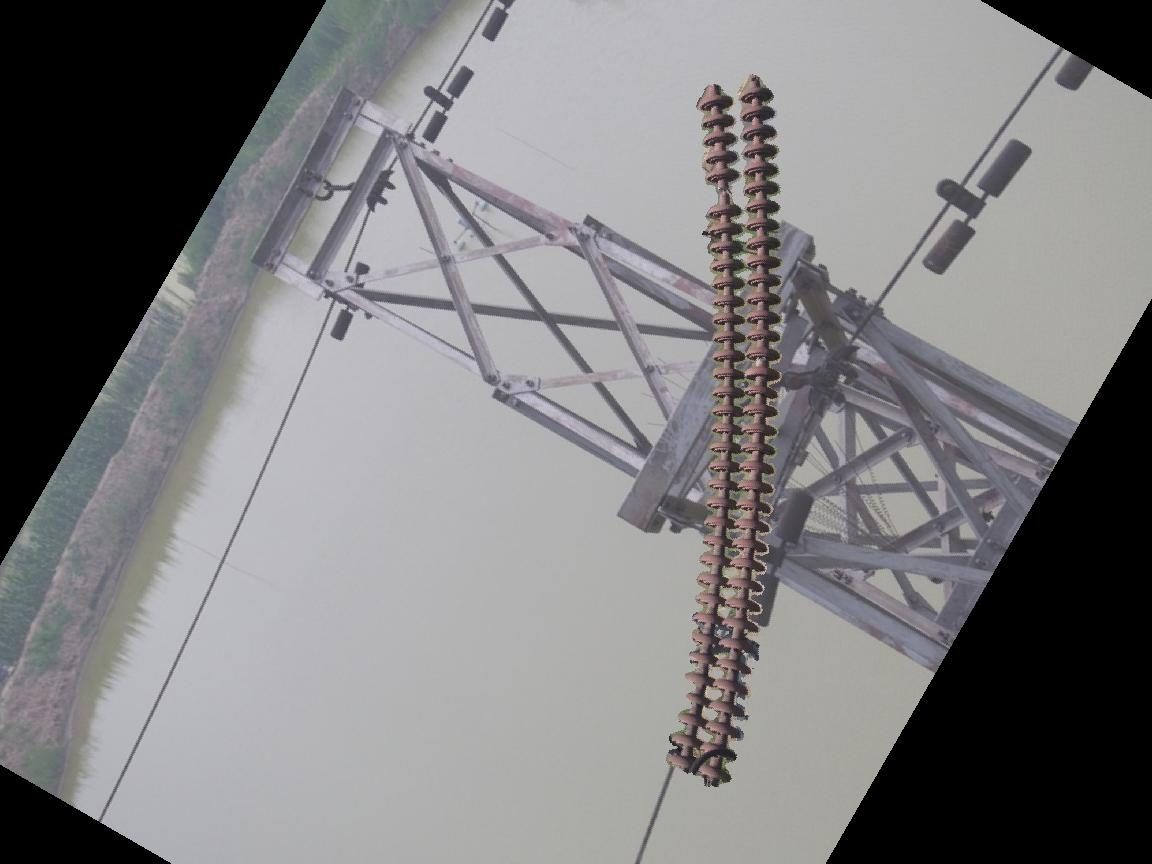insulator: (660, 70, 789, 789)
insulator_stringdrop: (701, 163, 748, 219)
